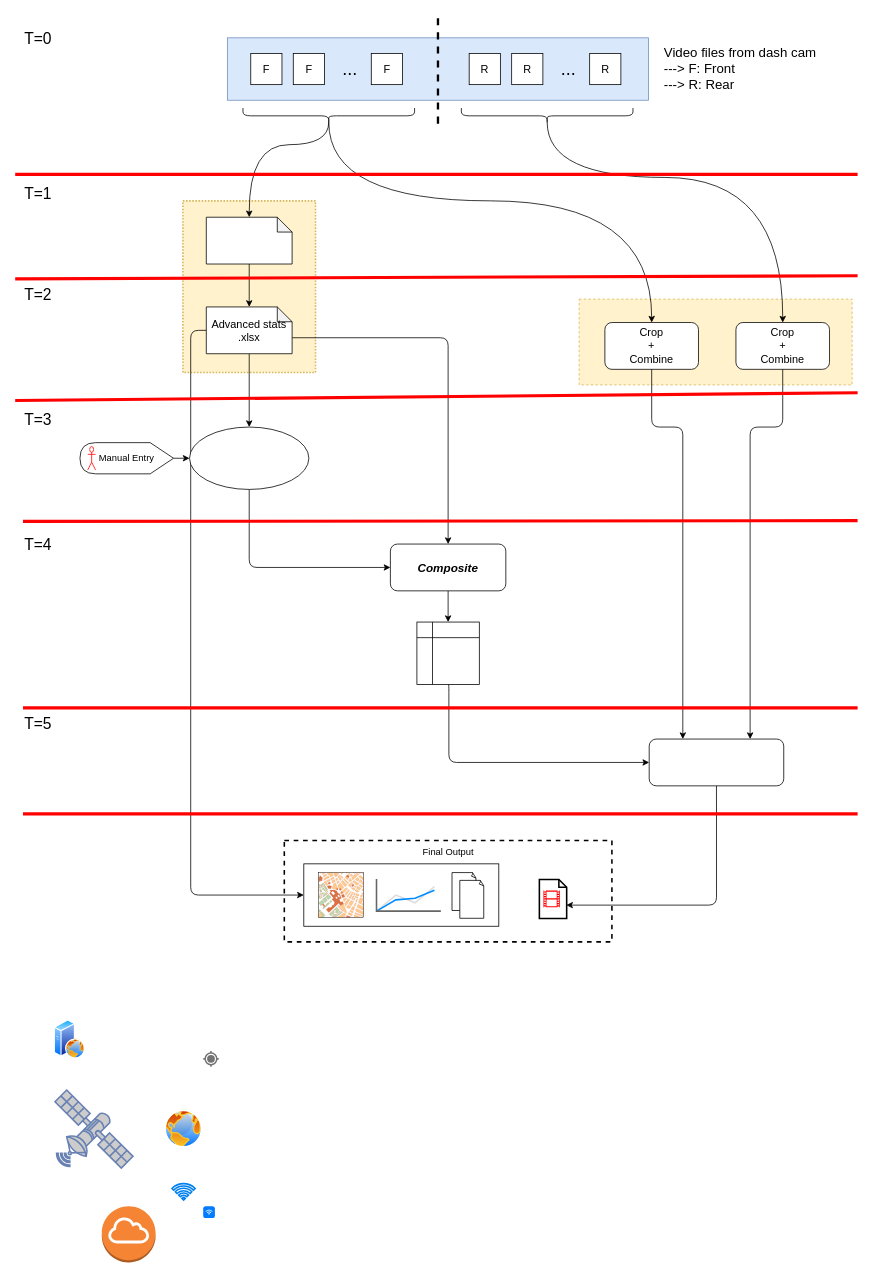
The diagram is 873 pixels wide and 1276 high, and some of its shapes have lost their labels. Here are the shapes that lost their labels. From the top down, the centre of each, then its label:
At point 249,240: "Raw stats .xlsx".
At point 249,457: "Track/route summary frame".
At point 447,652: "pickled objects".
At point 716,762: "Render".
